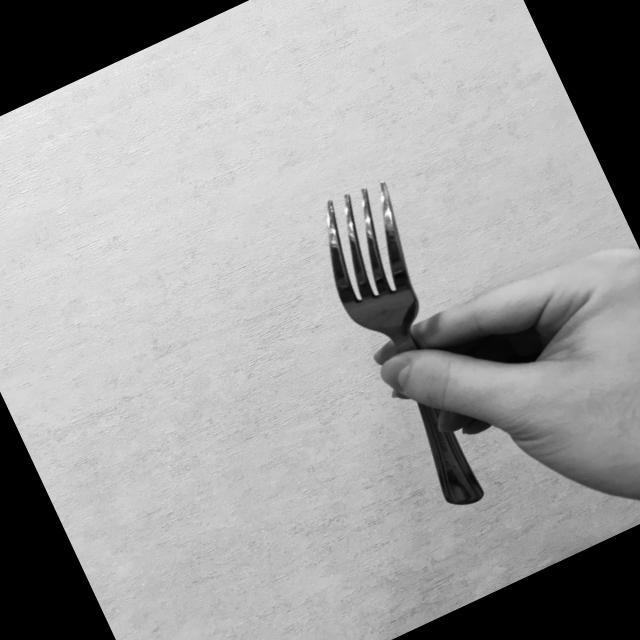fork: (296, 168, 528, 519)
